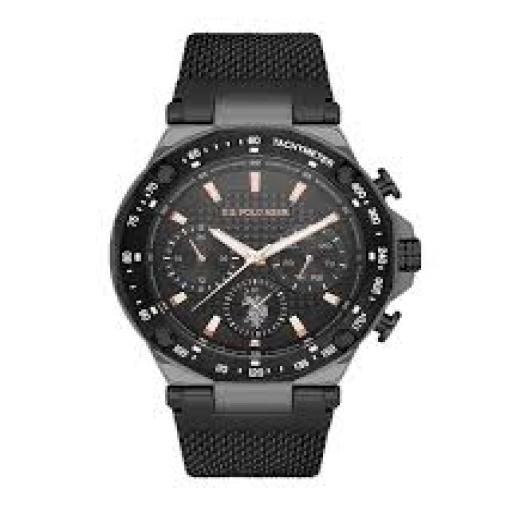KolSaati: (108, 17, 421, 507)
